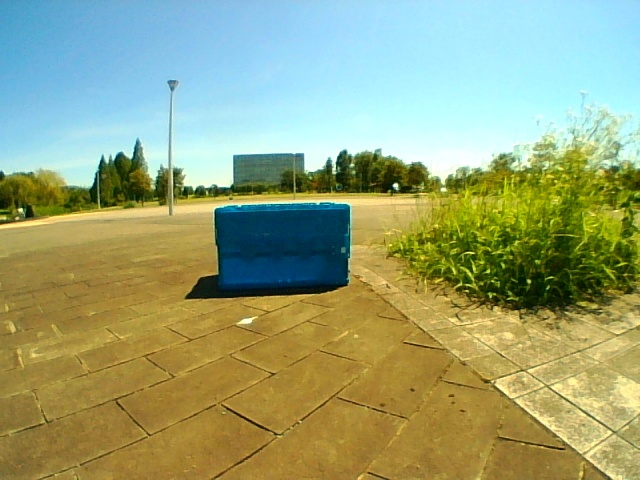blue_box: (217, 205, 349, 281)
